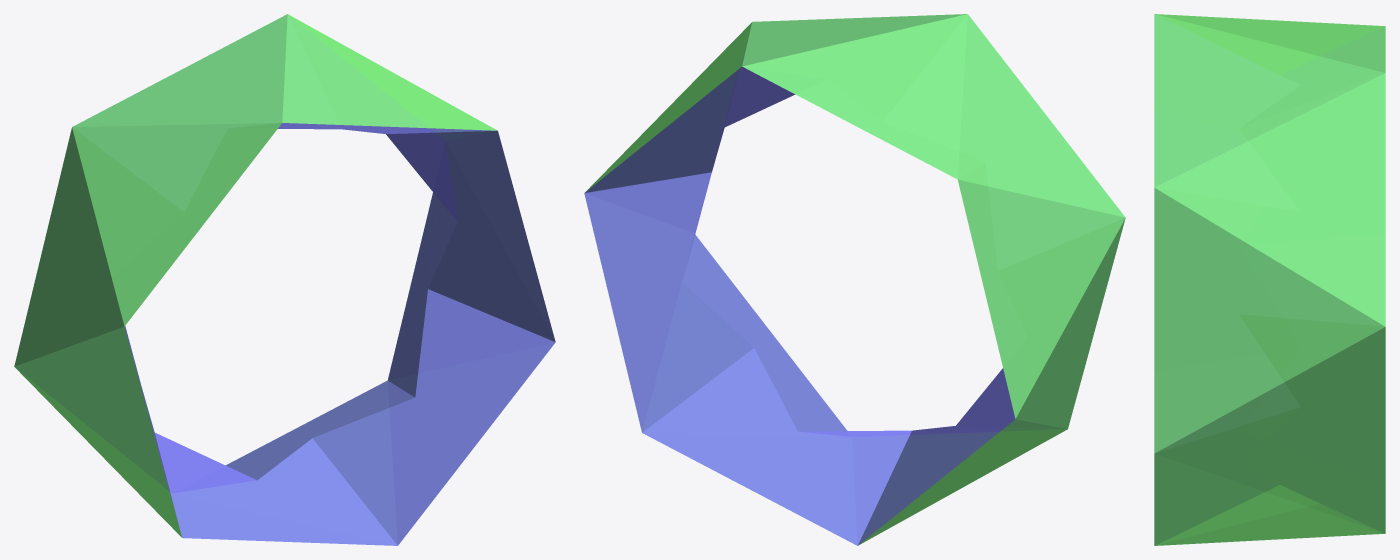
The model's file is HexagonalAntiprismTrapezohedronToroid.obj.
The picture shows the model from 3 angles, left to right: view 1: azimuth 30°, elevation 25°; view 2: azimuth 150°, elevation 25°; view 3: azimuth 270°, elevation 25°; orthographic projection. The views are drawn at different scales.
Bounding box in the file's own units: 1.93 × 1.93 × 0.8556.
